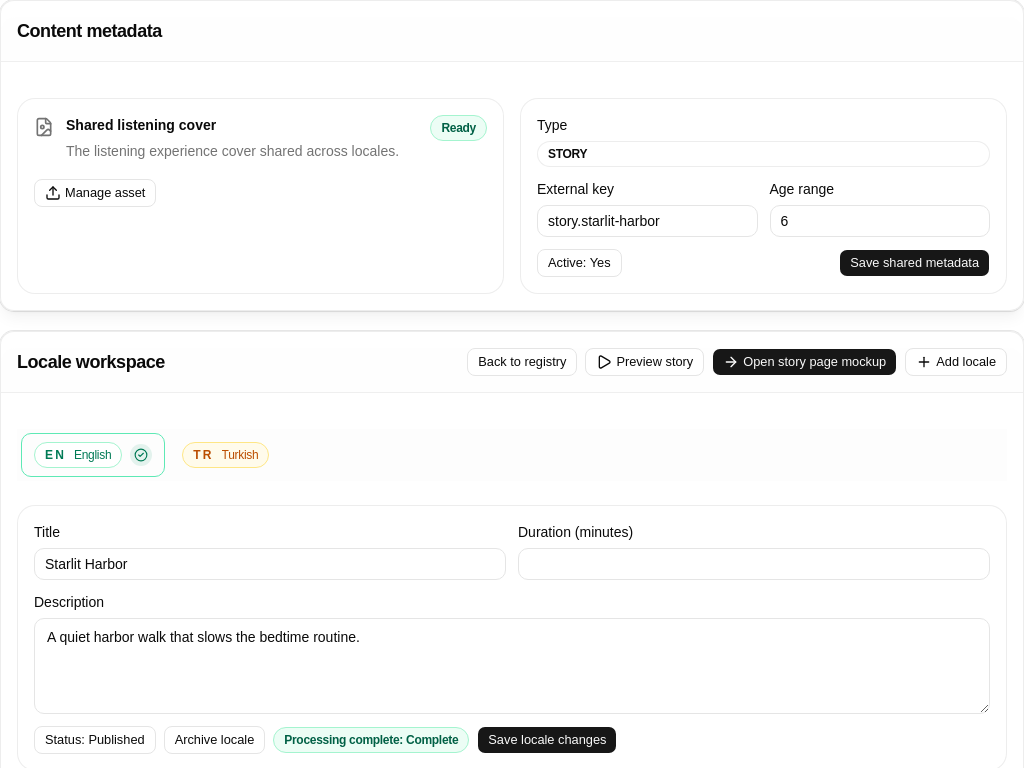
Variant A mockup routes › keeps locale and source asset actions available in the detail mockup
The image size is (1024, 768).
Expected: the heading "Shared listening cover" is shown, [66,117,216,133]
Click the button "Manage asset": [95, 193] box [34,179,156,207]
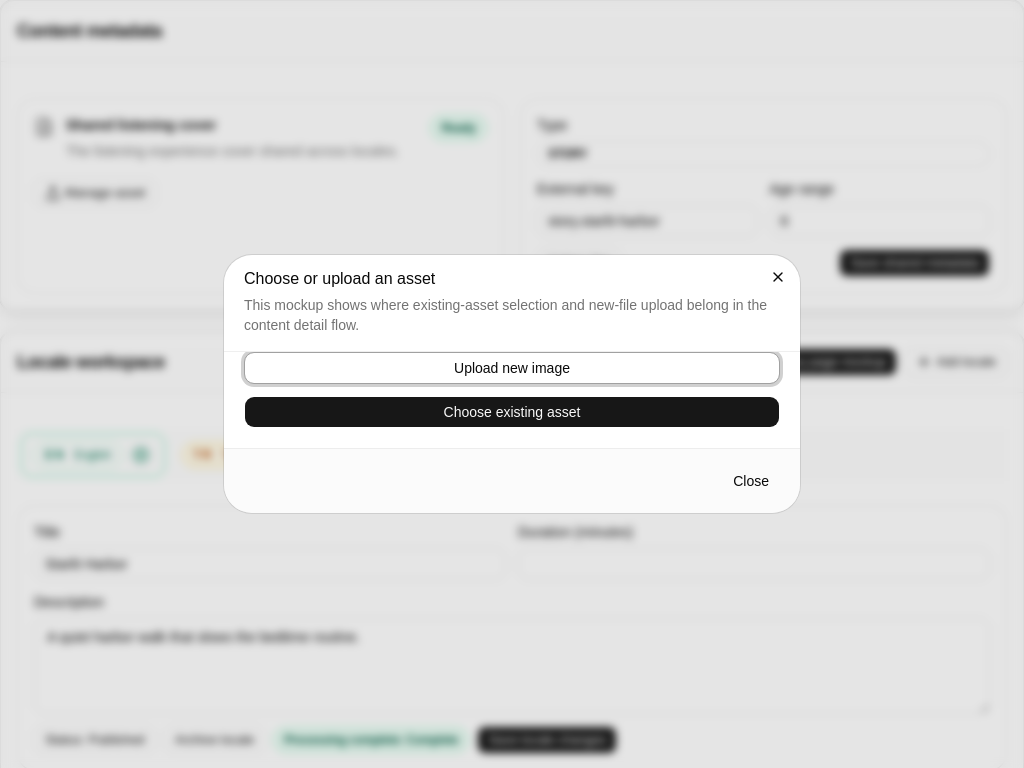
Result: the dialog "Choose or upload an asset" is shown at [224,255,800,513]
Click the button "Choose existing asset": [512, 412] box [244,396,780,428]
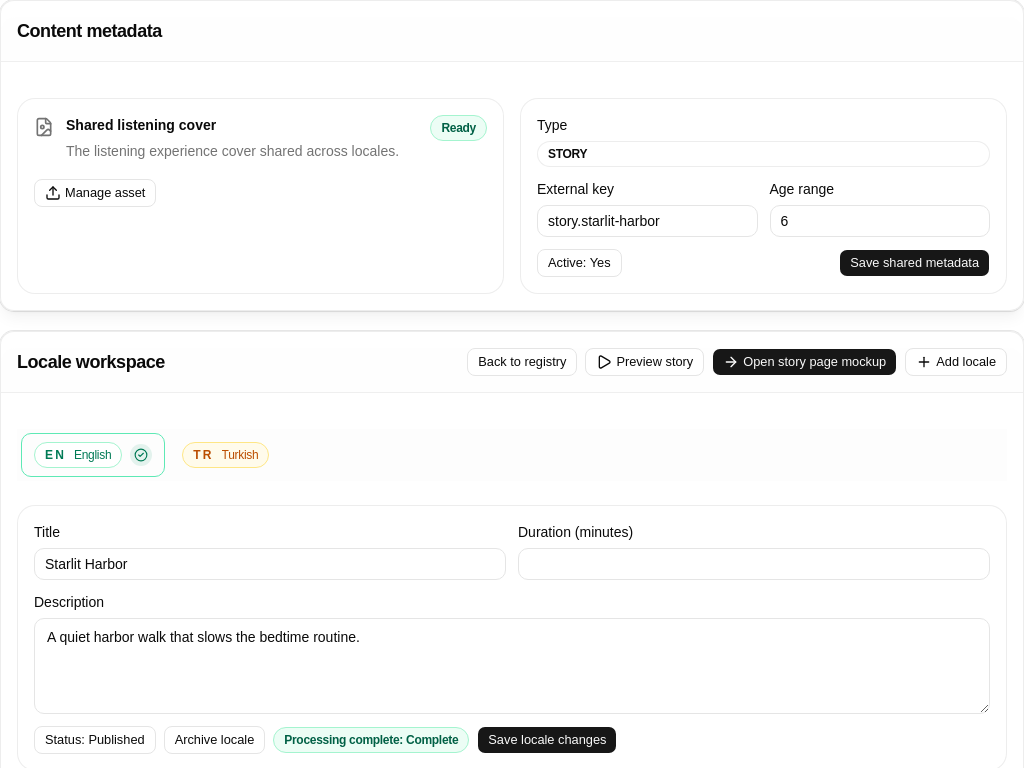
Result: the heading "Choose or upload an asset" is gone
